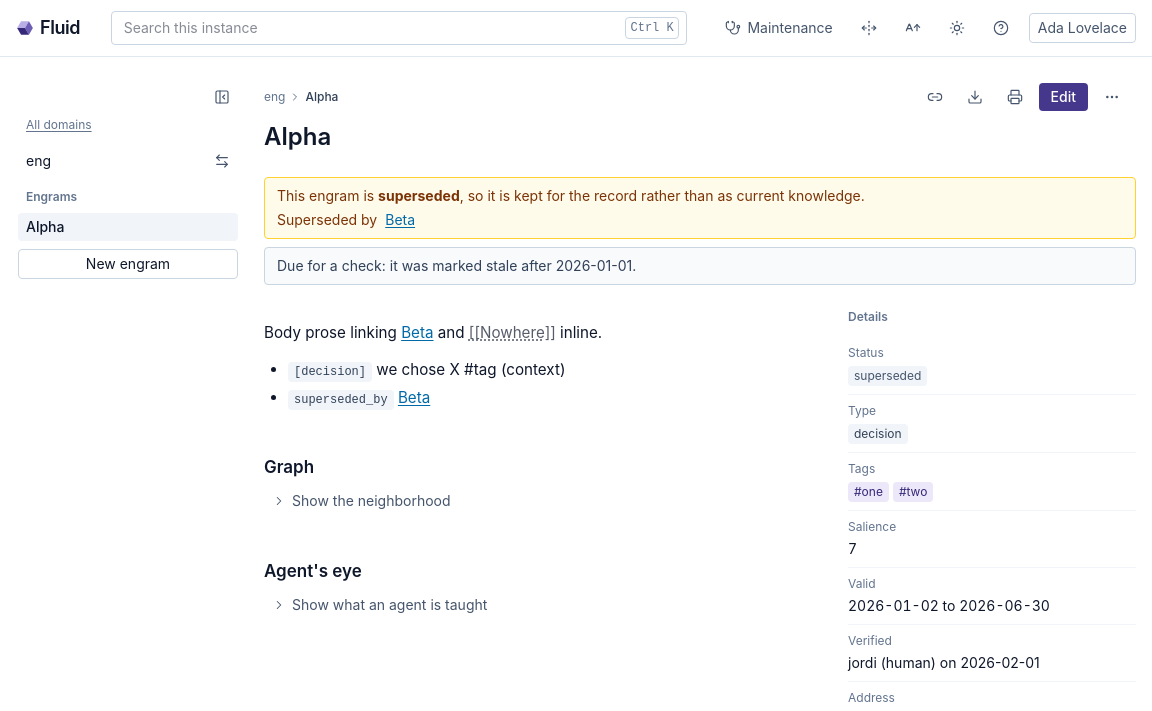
the engram page › puts the utilities on the row as icons and the writes behind one menu
Check: the button named "Share link" is shown, box [919,81,951,113]
Check: the button named "Download as Markdown" is shown, box [959,81,991,113]
What coordinates should you click on to do the following:
click the button named "More actions"
I would click on:
 (1112, 97)
Its box is [1096,81,1128,113].
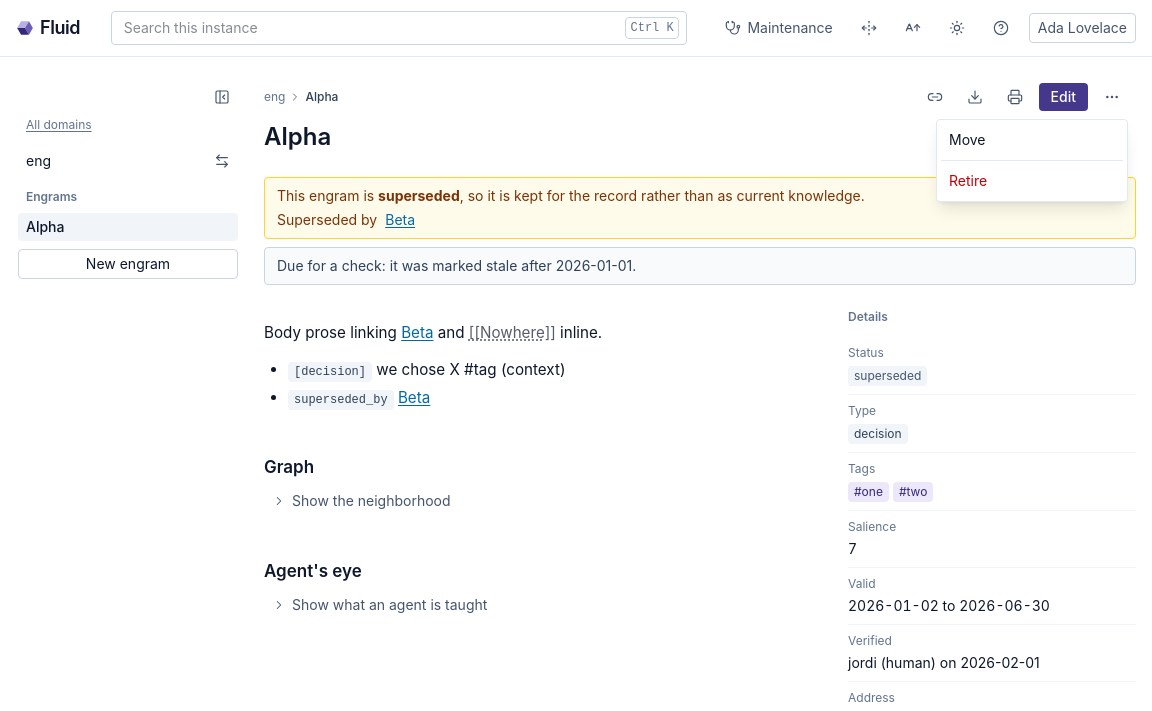
Check: the menu item "Move" is shown, box [949,131,986,148]
Check: the menu item "Retire" is shown, box [949,172,987,189]
